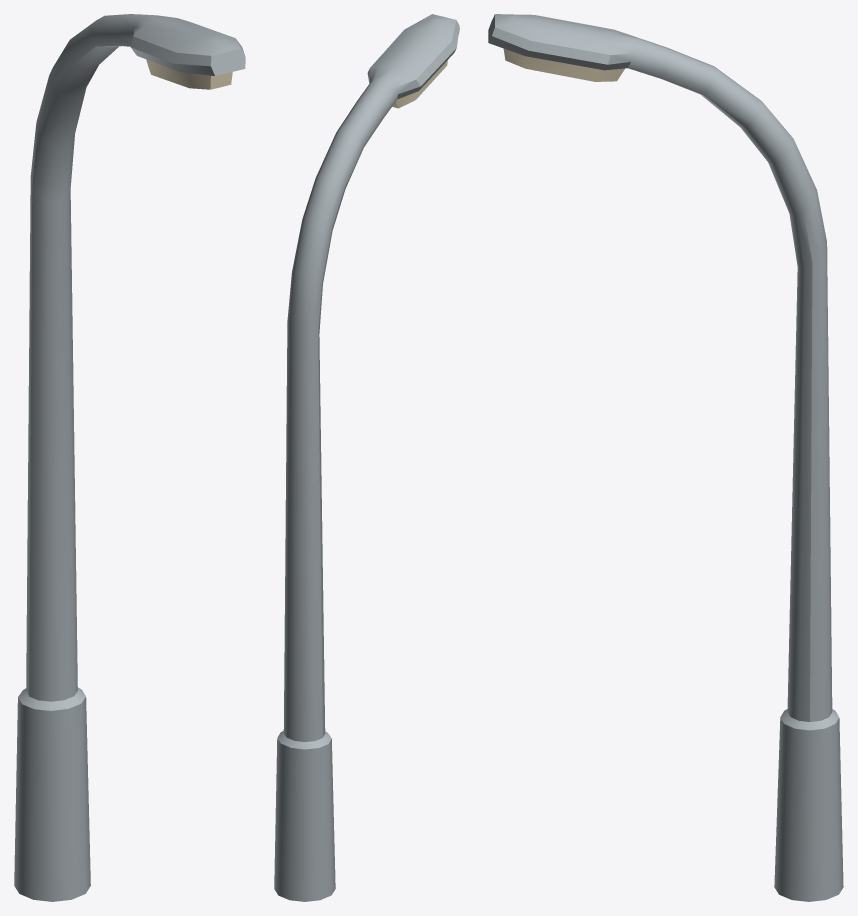
File: street-light.glb
3 views of the same model, side by side, from view 1: azimuth 30°, elevation 25°; view 2: azimuth 150°, elevation 25°; view 3: azimuth 270°, elevation 25° (orthographic). The views are drawn at different scales.
Visible parts, largest first — view 1: StreetLight; view 2: StreetLight; view 3: StreetLight.
Boxes of the visible parts, <box> form: StreetLight: <box>14,14,245,901</box>; StreetLight: <box>274,14,459,901</box>; StreetLight: <box>488,14,843,901</box>.
Size of the model in its own units: 0.4182 by 5.65 by 2.09.
